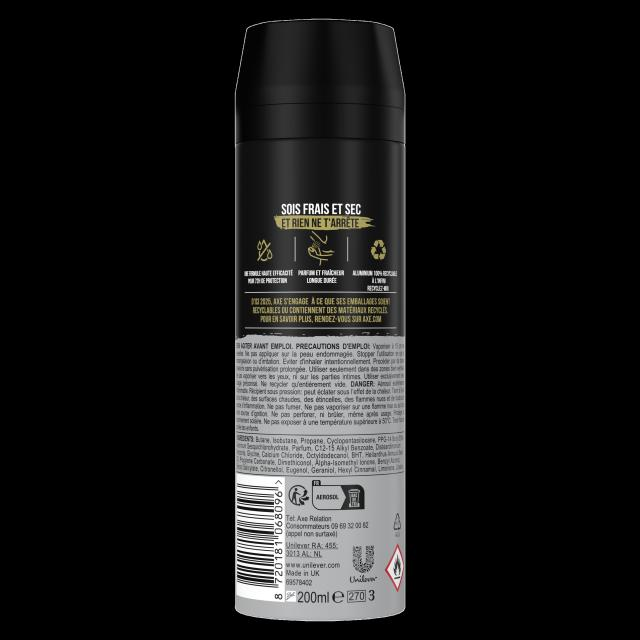GHS_Symbol_FLAME: (385, 545, 404, 592)
